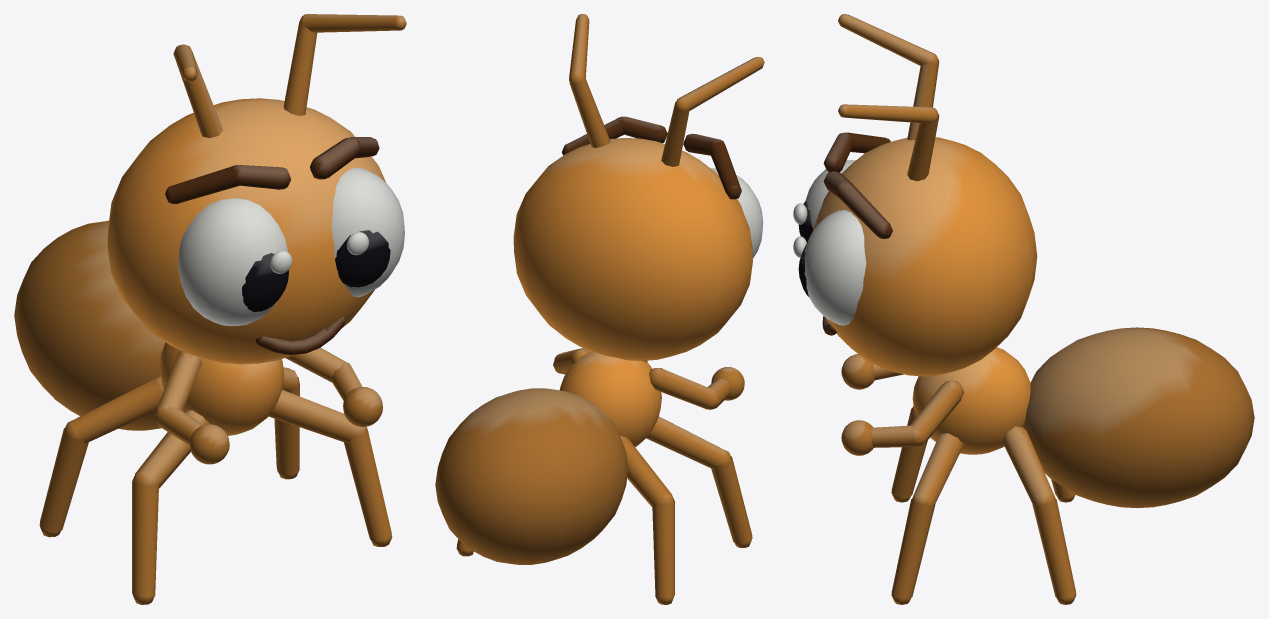
Rendered from ling.obj.
The picture shows the model from 3 angles, left to right: view 1: azimuth 30°, elevation 25°; view 2: azimuth 150°, elevation 25°; view 3: azimuth 270°, elevation 25°; orthographic projection. The views are drawn at different scales.
Visible parts, largest first — view 1: ling; view 2: ling; view 3: ling.
Boxes of the visible parts, bbox=[...] form: ling: bbox=[14, 14, 406, 604]; ling: bbox=[435, 14, 764, 604]; ling: bbox=[793, 14, 1254, 604].
Bounding box in the file's own units: 74 × 153 × 130.
